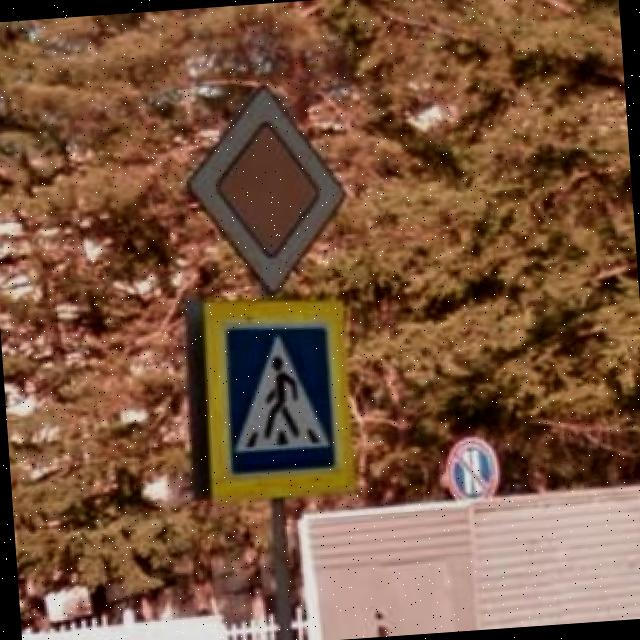Droga z pierwszenstwem: (180, 74, 355, 306)
Przejscie dla pieszych: (188, 285, 362, 506)
